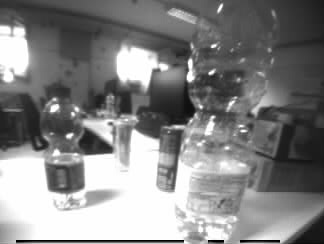Bottle: (177, 1, 278, 240), (41, 87, 84, 207)
Tin can: (157, 126, 177, 193), (112, 118, 131, 169)
